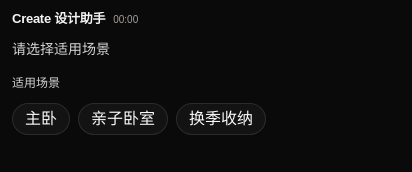
商品详情快捷选项 › 允许多选，并在点击发送选择后才提交
Later steps or results of the test are not shown.
Check: the button "亲子卧室" is shown, box 78,103 -> 168,135
Click the button "主卧" at [41, 119], box 12,103 -> 70,135
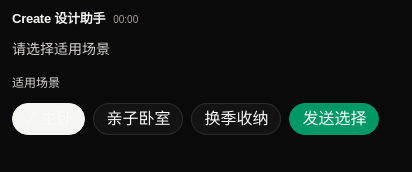
Click the button "亲子卧室" at [138, 119], box 93,103 -> 183,135
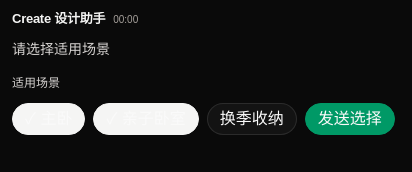
Check: the button "发送选择" is shown, box 305,103 -> 395,135
